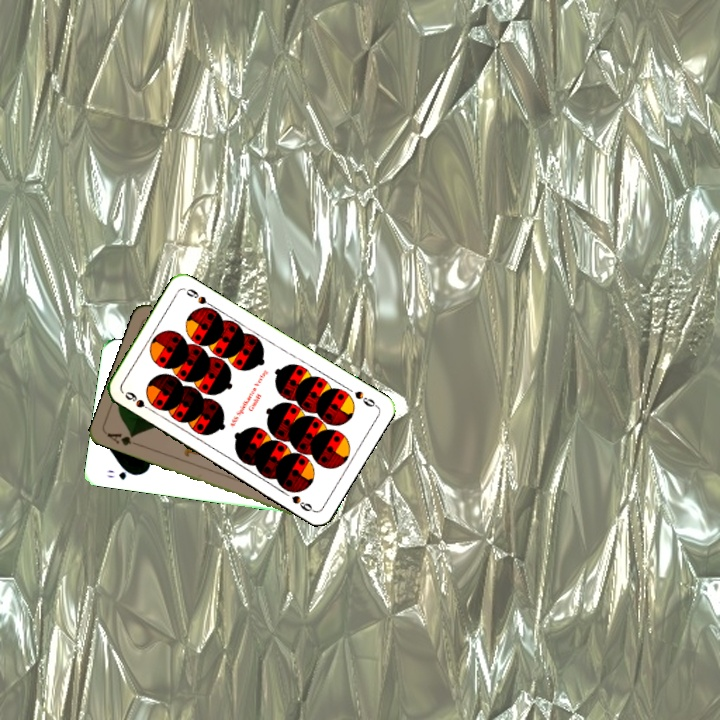GA: (103, 429, 143, 449)
GO: (102, 465, 140, 482)
S9: (120, 387, 156, 415), (350, 387, 380, 410)
